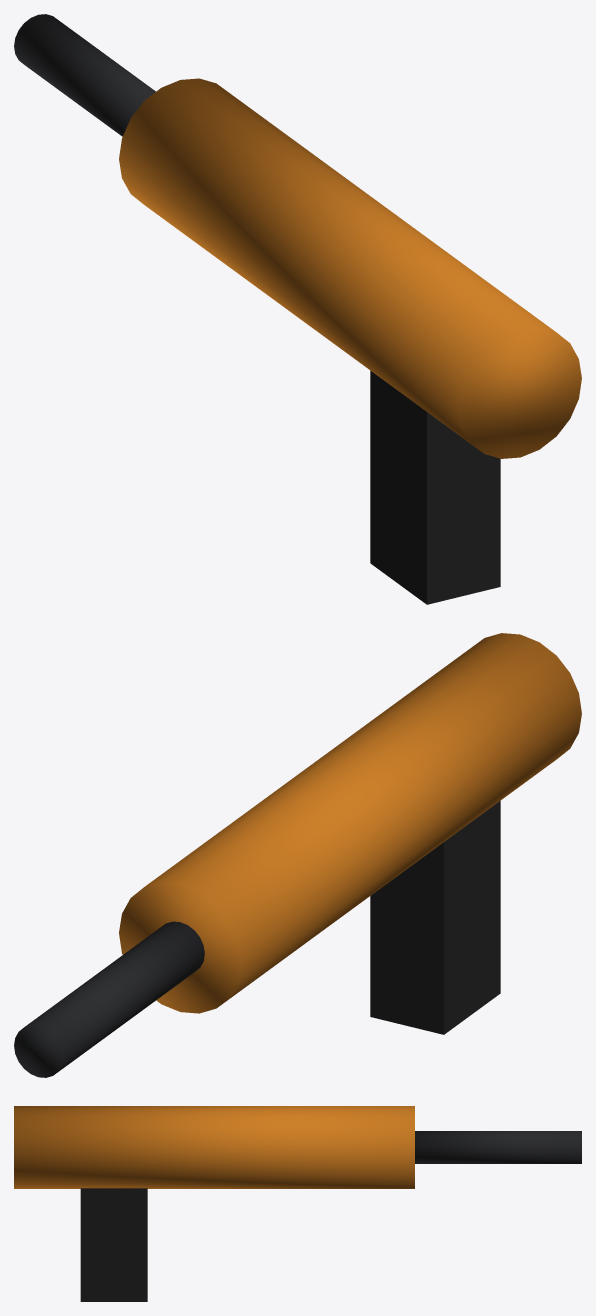
The model's file is Wrench.fbx.
The picture shows the model from 3 angles, top to bottom: view 1: azimuth 30°, elevation 25°; view 2: azimuth 150°, elevation 25°; view 3: azimuth 270°, elevation 25°; orthographic projection. The views are drawn at different scales.
Visible parts, largest first — view 1: Body, Grip, Nozzle; view 2: Body, Grip, Nozzle; view 3: Body, Grip, Nozzle.
Part boxes in pixels (box(x1,y1,x2,y2)): Body: box(119, 78, 581, 458); Grip: box(370, 370, 500, 604); Nozzle: box(14, 14, 155, 136); Body: box(119, 633, 581, 1013); Grip: box(370, 801, 500, 1034); Nozzle: box(14, 921, 204, 1077); Body: box(14, 1106, 414, 1188); Grip: box(80, 1188, 147, 1301); Nozzle: box(415, 1131, 581, 1163).
Bounding box in the file's own units: 5 × 34 × 12.
